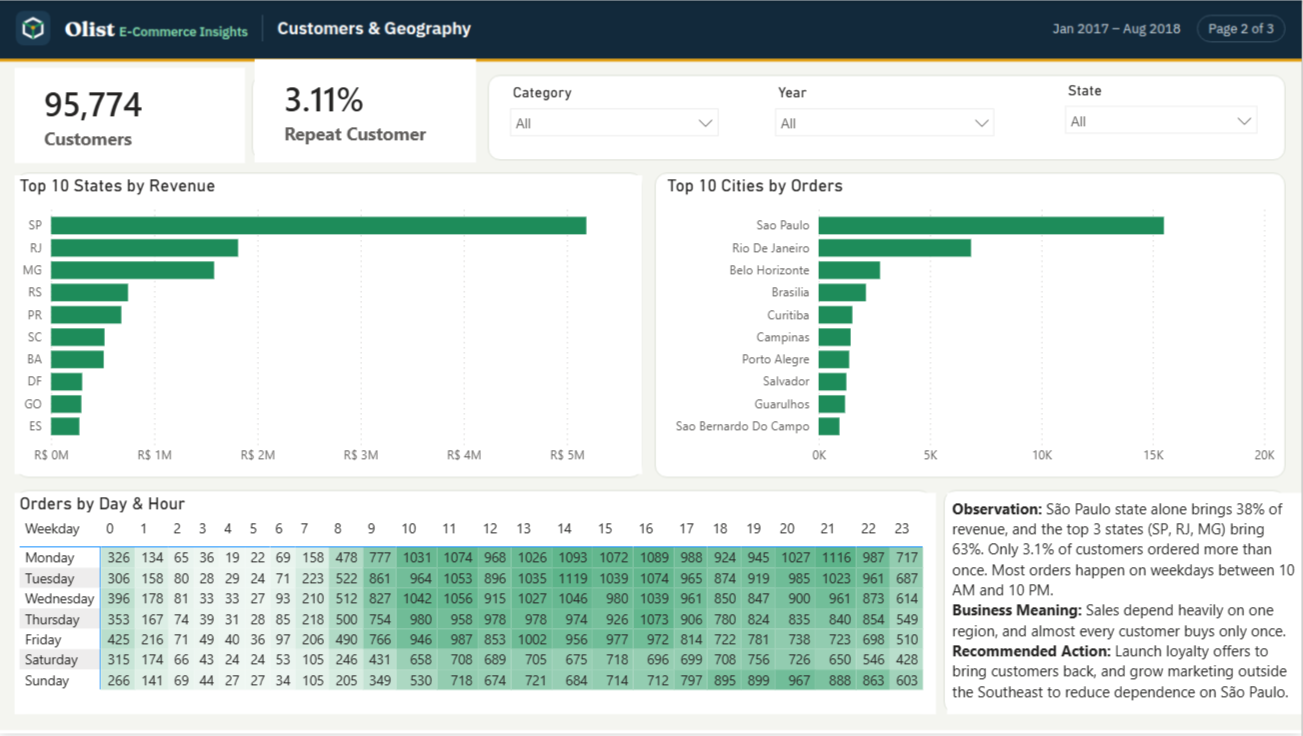

What the dashboard file says about the page in this screenshot:
{"tool":"powerbi","page":{"name":"Customers & Geography","canvas":[1280,720],"ordinal":1},"visuals":[{"type":"cardVisual","fields":{"Data":["MMeasures.Customers Card"]},"box":[14.7,66.3,226.1,93.4],"z":0},{"type":"cardVisual","fields":{"Data":["MMeasures.Repeat Customer Rate %"]},"box":[250.6,57.7,217.5,102],"z":1000},{"type":"slicer","fields":{"Values":["dim_products.Category"]},"box":[491.5,77.4,224.8,73.7],"z":2000},{"type":"slicer","fields":{"Values":["Dim_Date.Year"]},"box":[751.9,77.4,235.9,76.2],"z":3000},{"type":"slicer","fields":{"Values":["dim_customers.customer_state"]},"box":[1037,74.9,208.9,79.9],"z":4000},{"type":"clusteredBarChart","title":"Top 10 States by Revenue","fields":{"Category":["dim_customers.customer_state"],"Y":["MMeasures.Total Revenue"]},"box":[14.7,172,616.8,293.6],"z":5000},{"type":"clusteredBarChart","title":"Top 10 Cities by Orders","fields":{"Category":["dim_customers.customer_city"],"Y":["MMeasures.Total Orders"]},"box":[651.2,172,607,293.6],"z":6000},{"type":"pivotTable","title":"Orders by Day & Hour","fields":{"Rows":["Dim_Date.Weekday"],"Columns":["dim_orders.Purchase Hour"],"Values":["MMeasures.Total Orders"]},"box":[14.7,484.1,905.5,217.5],"z":7000},{"type":"textbox","box":[931.3,484.1,348.9,217.5],"z":8000}]}

Visuals, with their boxes in screenshot pixels (x1, y1, x2, y2), scaled from the page's 1280x720 canvas onto the 1303x736 screenshot:
cardVisual - MMeasures.Customers Card: <region>15, 68, 245, 163</region>
cardVisual - MMeasures.Repeat Customer Rate %: <region>255, 59, 477, 163</region>
slicer - dim_products.Category: <region>500, 79, 729, 154</region>
slicer - Dim_Date.Year: <region>765, 79, 1006, 157</region>
slicer - dim_customers.customer_state: <region>1056, 77, 1268, 158</region>
"Top 10 States by Revenue" clusteredBarChart: <region>15, 176, 643, 476</region>
"Top 10 Cities by Orders" clusteredBarChart: <region>663, 176, 1281, 476</region>
"Orders by Day & Hour" pivotTable: <region>15, 495, 937, 717</region>
textbox: <region>948, 495, 1302, 717</region>
